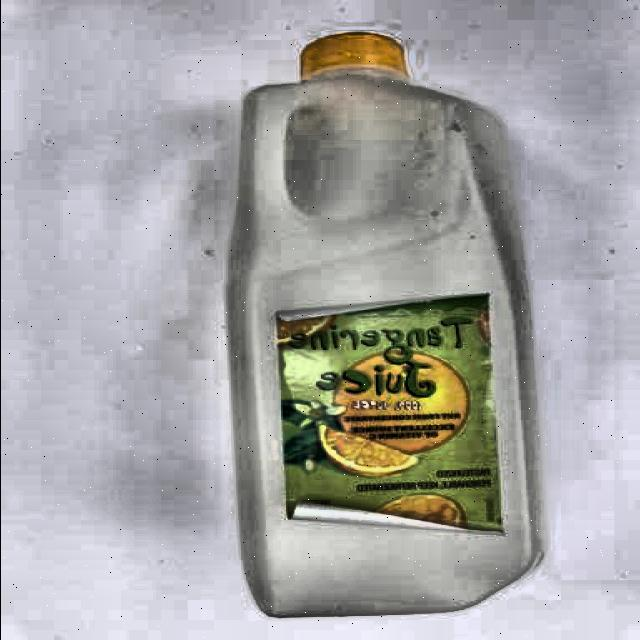plastic: (218, 32, 554, 620)
